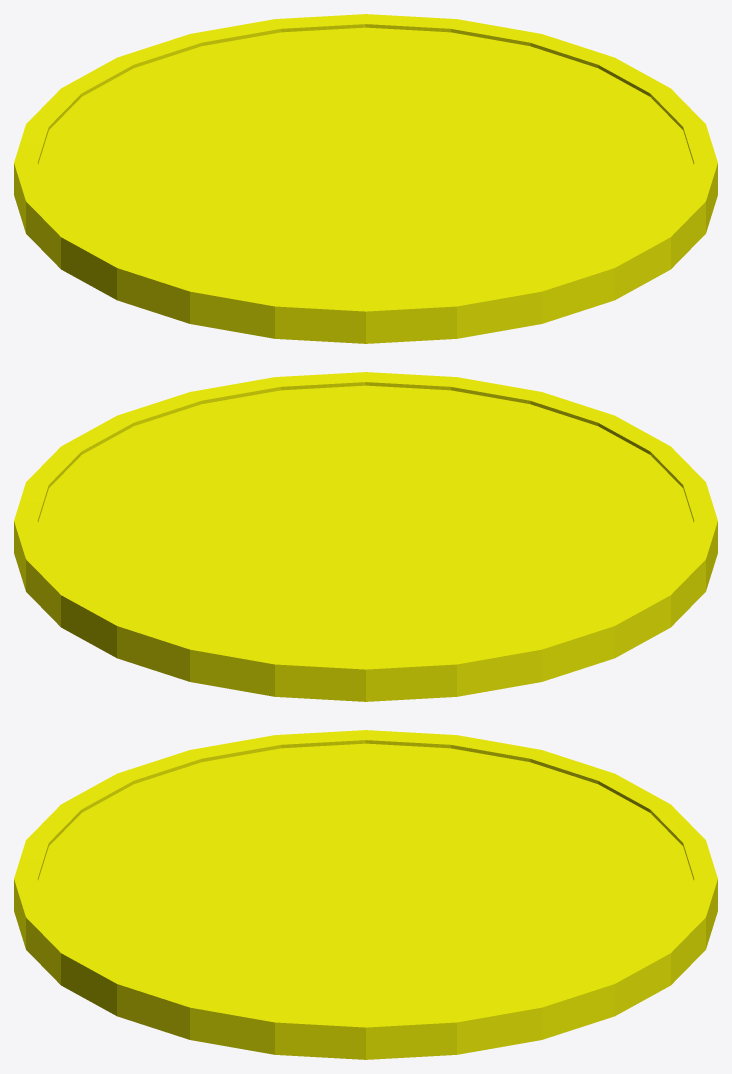
3 renders of one model, top to bottom at view 1: azimuth 30°, elevation 25°; view 2: azimuth 150°, elevation 25°; view 3: azimuth 270°, elevation 25°, orthographic.
Visible parts, largest first — view 1: san; view 2: san; view 3: san.
Boxes of the visible parts, left/top/right/bottom form: san: left=14, top=14, right=717, bottom=343; san: left=14, top=372, right=717, bottom=701; san: left=14, top=730, right=717, bottom=1059.
Size of the model in its own units: 18.66 by 0.947 by 18.66.
1 material, 1 textured.
